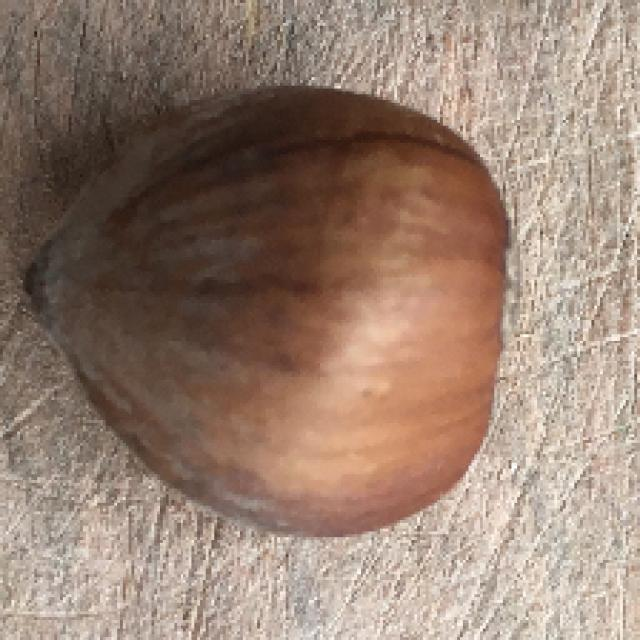DamagedHazelnut: (22, 88, 521, 537)
